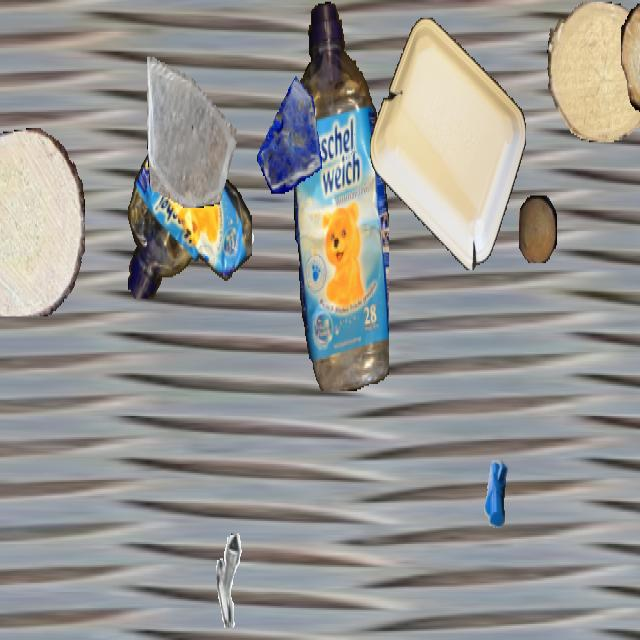glass: (147, 48, 237, 208), (256, 75, 322, 192)
metal: (317, 174, 377, 281), (466, 438, 524, 540), (216, 532, 270, 628), (218, 178, 258, 249), (0, 278, 14, 348)
plastic: (370, 18, 526, 270), (294, 2, 388, 389), (126, 137, 252, 297)
wood: (0, 128, 85, 316), (547, 2, 640, 140), (519, 196, 557, 263), (621, 2, 640, 119)
